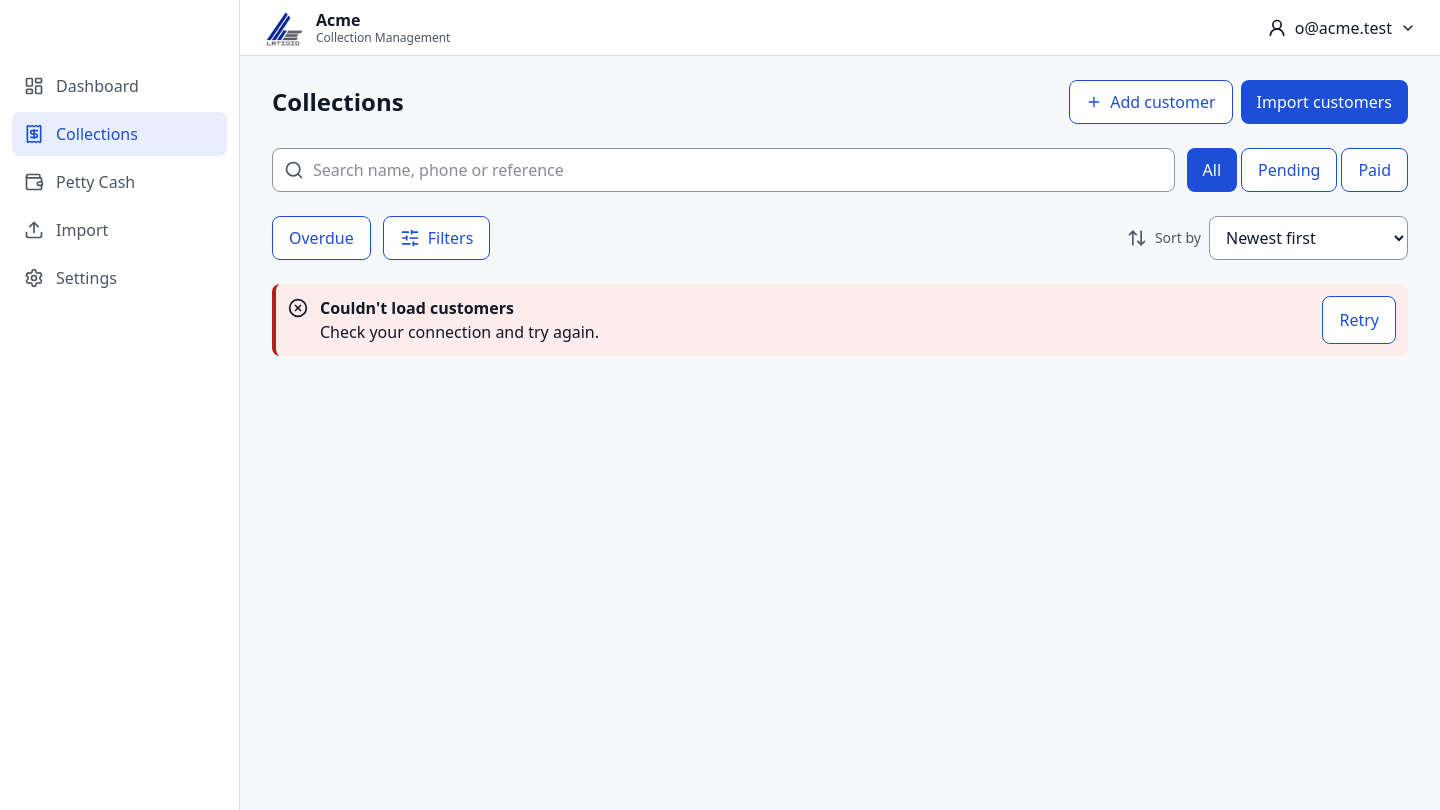
Test: Collections list › has an error state with Retry
This screenshot has width=1440, height=810.
Expected: the text "Couldn't load customers" is shown, left=320, top=297, right=514, bottom=319
Click the button "Retry".
click(1359, 320)  # box left=1322, top=296, right=1396, bottom=344
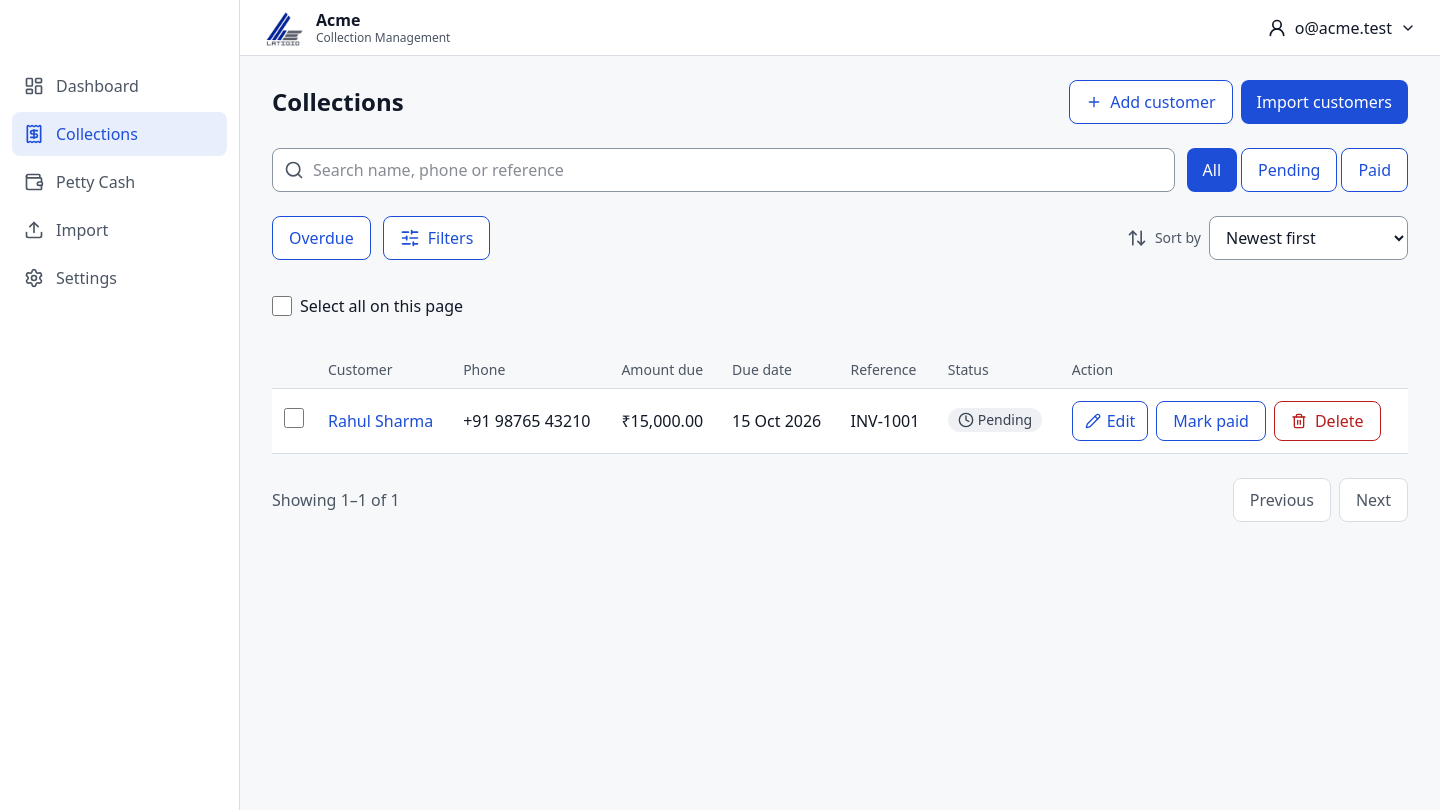
Expected: the table is shown, left=272, top=352, right=1408, bottom=454
